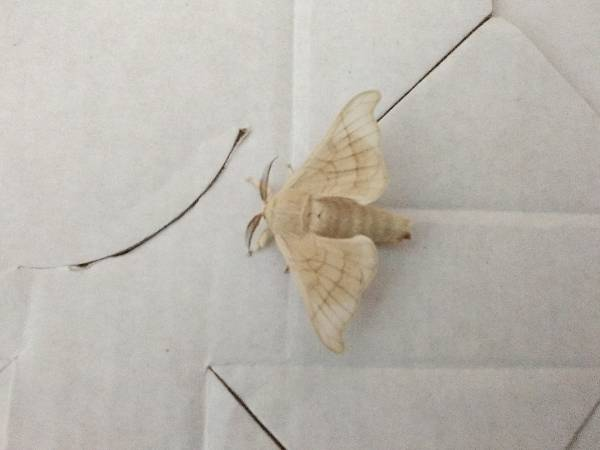feie: (236, 101, 439, 352)
